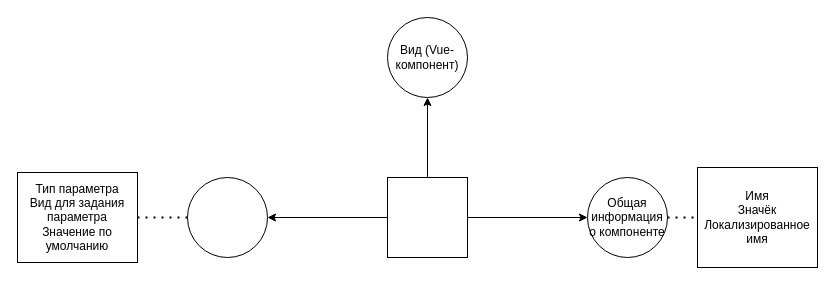
This 835x285 diagram has some shape labels left out. Here are the shapes that lost their labels. From the top down, the centre of each, then its label:
[227,217]: Информация о параметрах компонента
[427,217]: Блок
